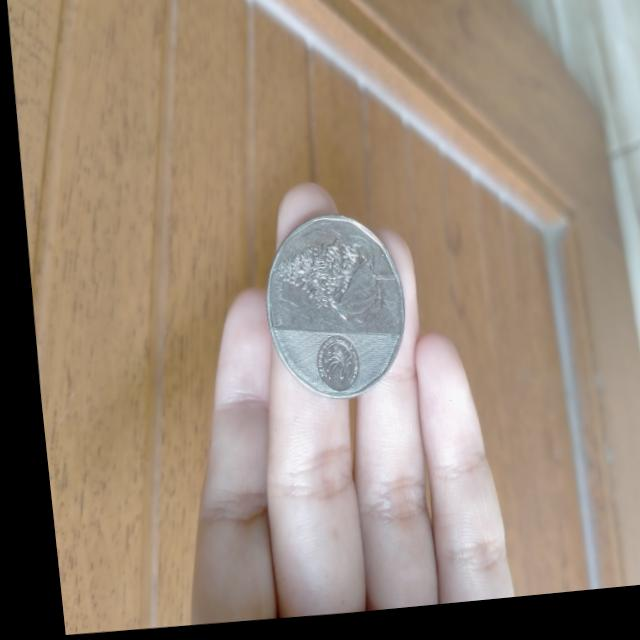10_New_Back: (254, 224, 402, 332)
